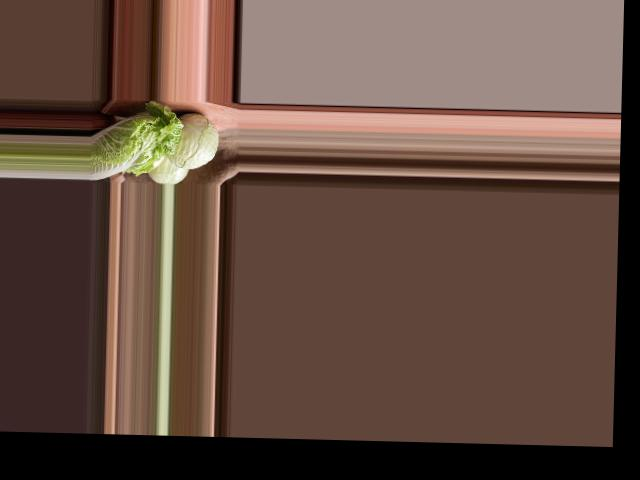lettuce: (90, 98, 183, 179)
